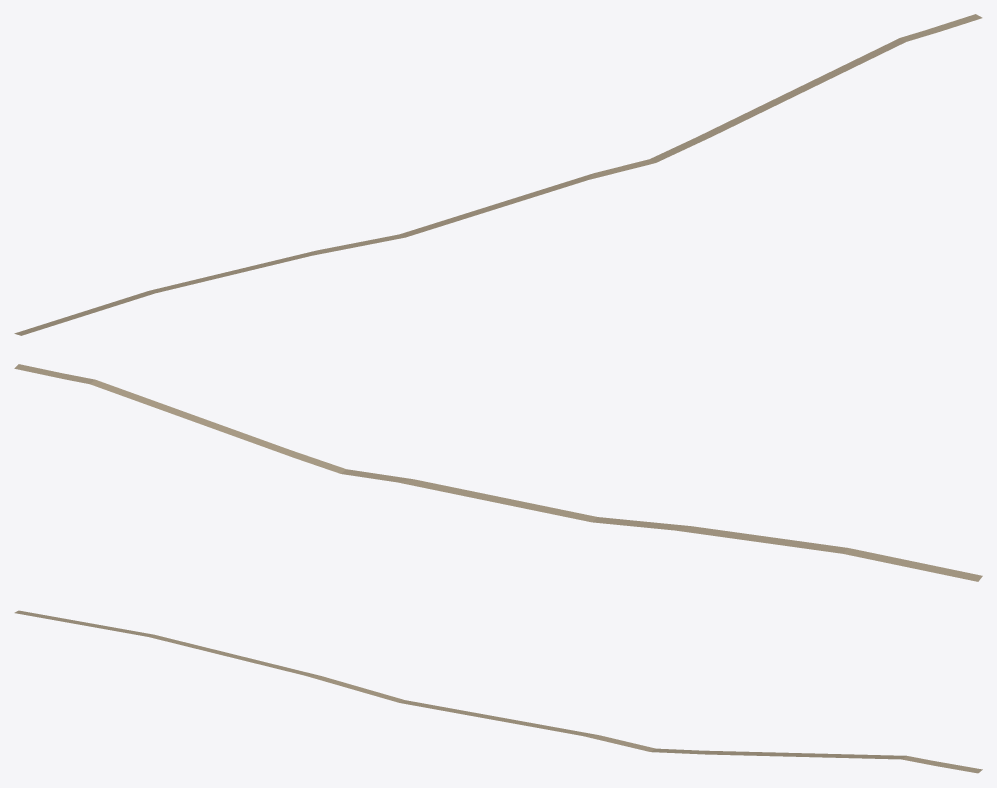
Rendered from farm_-19_-26_track.glb.
3 renders of one model, top to bottom at view 1: azimuth 30°, elevation 25°; view 2: azimuth 150°, elevation 25°; view 3: azimuth 330°, elevation 25°, orthographic. The views are drawn at different scales.
Parts seen in each view (by area): view 1: geometry_0; view 2: geometry_0; view 3: geometry_0.
Boxes of the visible parts, left/top/right/bottom form: geometry_0: left=14, top=14, right=982, bottom=335; geometry_0: left=14, top=364, right=982, bottom=581; geometry_0: left=14, top=610, right=982, bottom=773.
Bounding box in the file's own units: 308 × 13.67 × 32.57.
